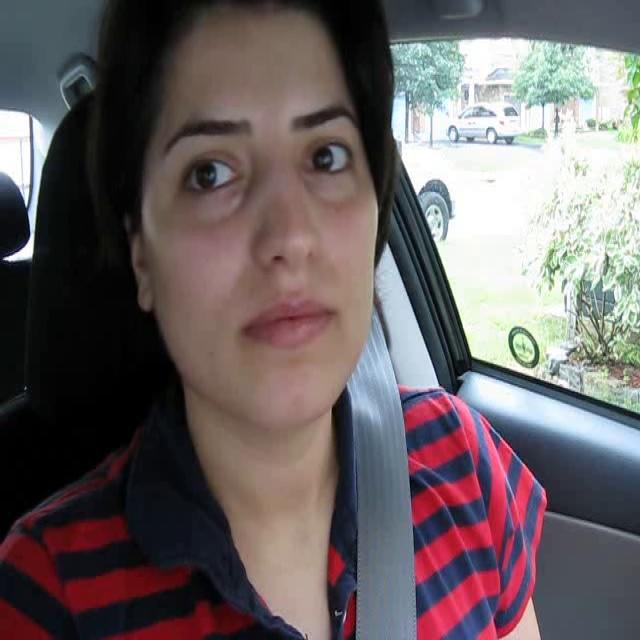close: (236, 290, 340, 350)
